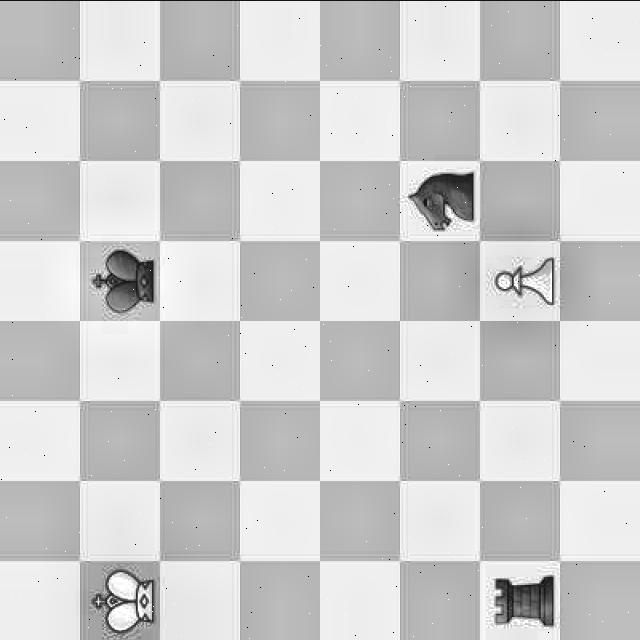Black Knight: (403, 164, 479, 238)
black king: (84, 238, 160, 318)
black rook: (478, 569, 560, 637)
white king: (77, 563, 159, 637)
white pawn: (483, 246, 561, 318)
